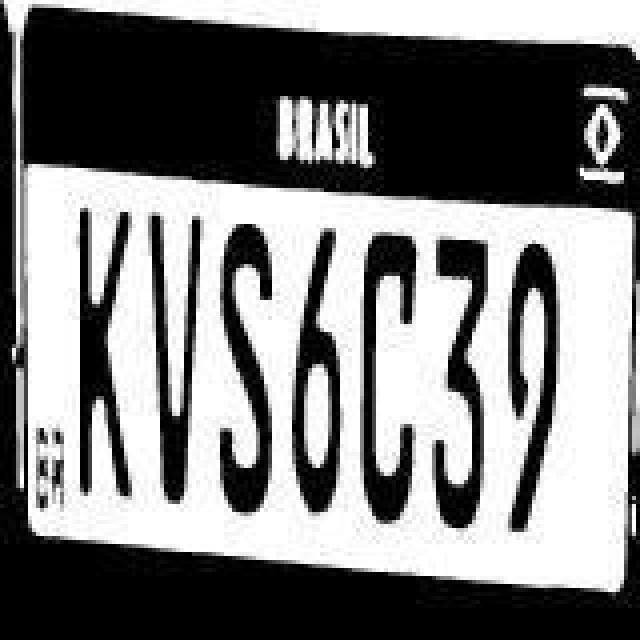3: (432, 220, 496, 524)
6: (288, 212, 344, 508)
9: (496, 210, 560, 526)
C: (346, 218, 422, 518)
K: (68, 212, 140, 508)
S: (204, 210, 276, 510)
V: (136, 216, 200, 504)
